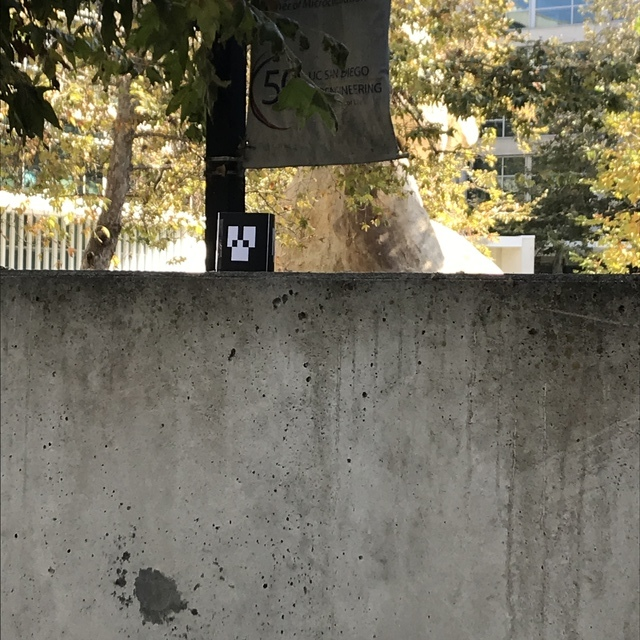ARTag: (215, 213, 276, 276)
